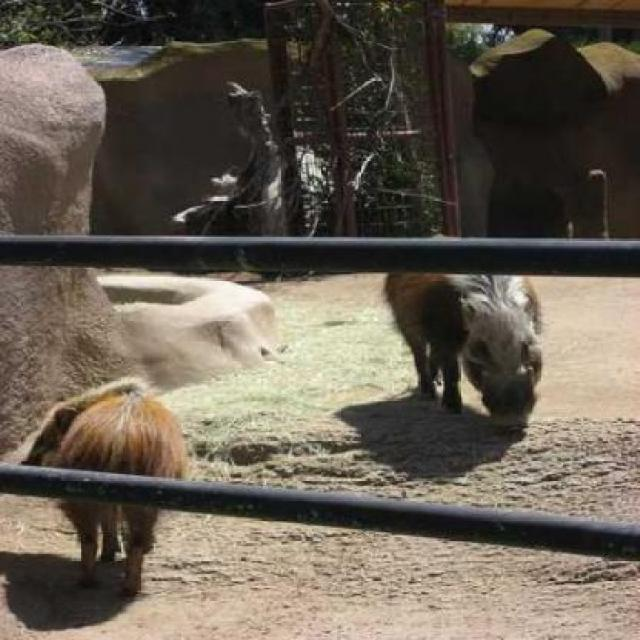pig: (352, 206, 586, 469), (0, 336, 200, 552)
